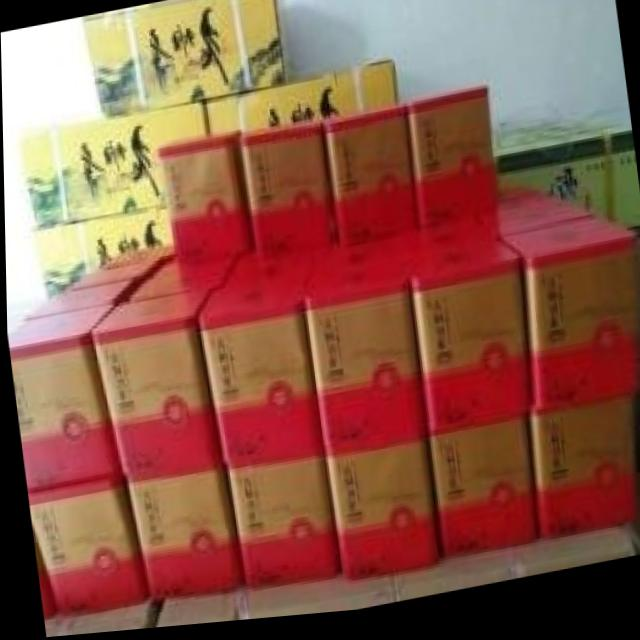box: (491, 224, 640, 418), (398, 245, 525, 439), (90, 291, 219, 478), (195, 276, 321, 463), (301, 261, 422, 451), (6, 304, 121, 494), (119, 466, 245, 602), (25, 478, 145, 618), (219, 451, 339, 591), (321, 439, 435, 583), (426, 418, 535, 568), (525, 399, 634, 548), (319, 111, 417, 273), (158, 133, 261, 283), (241, 128, 335, 283), (405, 96, 495, 255), (122, 253, 244, 307), (491, 193, 595, 244), (22, 287, 137, 324), (104, 241, 178, 270), (73, 269, 150, 292)
